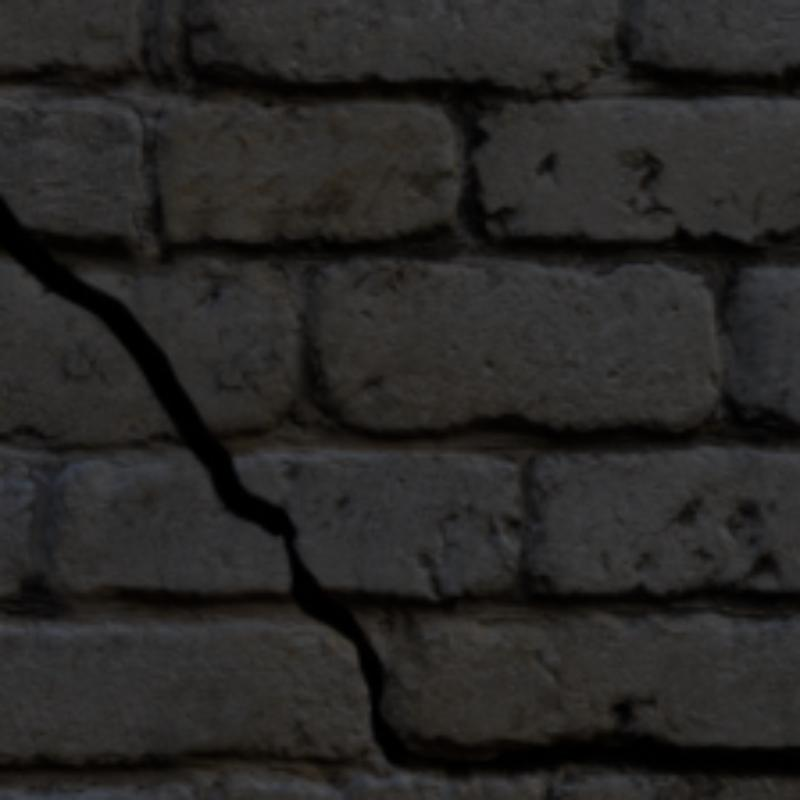crack: (0, 196, 796, 779)
